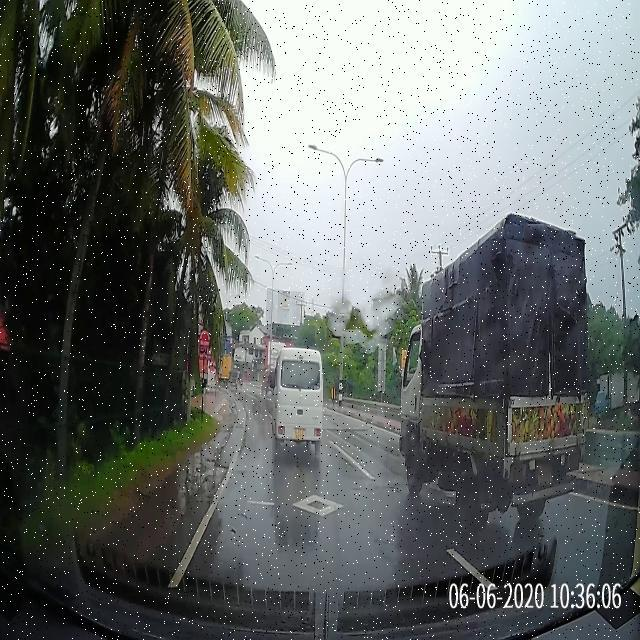diamond: (207, 487, 419, 522)
